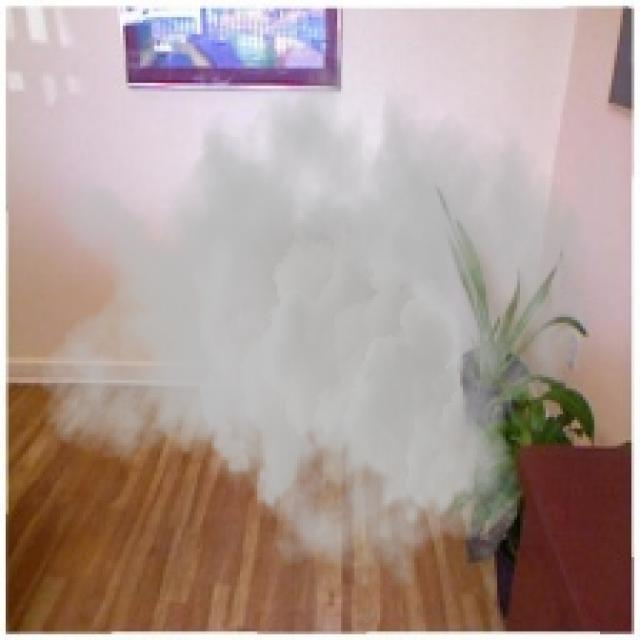Smoke: (37, 29, 592, 588)
